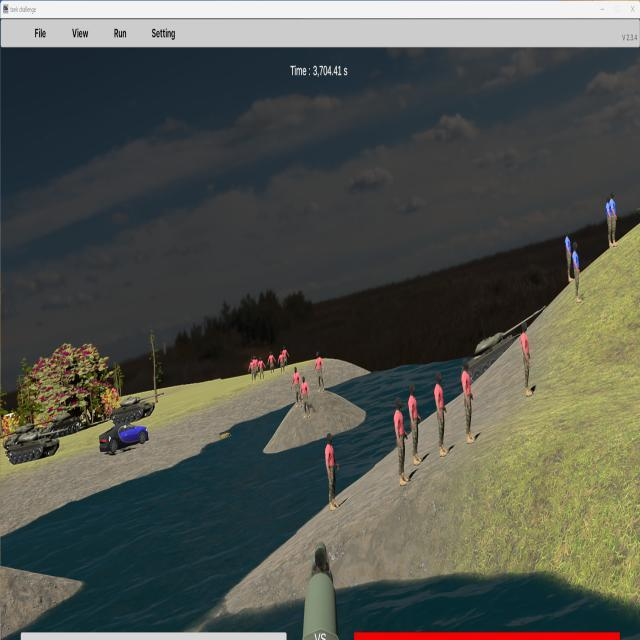Human: (394, 397, 409, 486), (434, 371, 448, 458), (325, 432, 340, 512), (409, 383, 422, 466), (462, 358, 474, 444), (521, 322, 532, 396)
Tank: (7, 427, 66, 464), (110, 392, 166, 425)
car: (99, 422, 149, 454)
